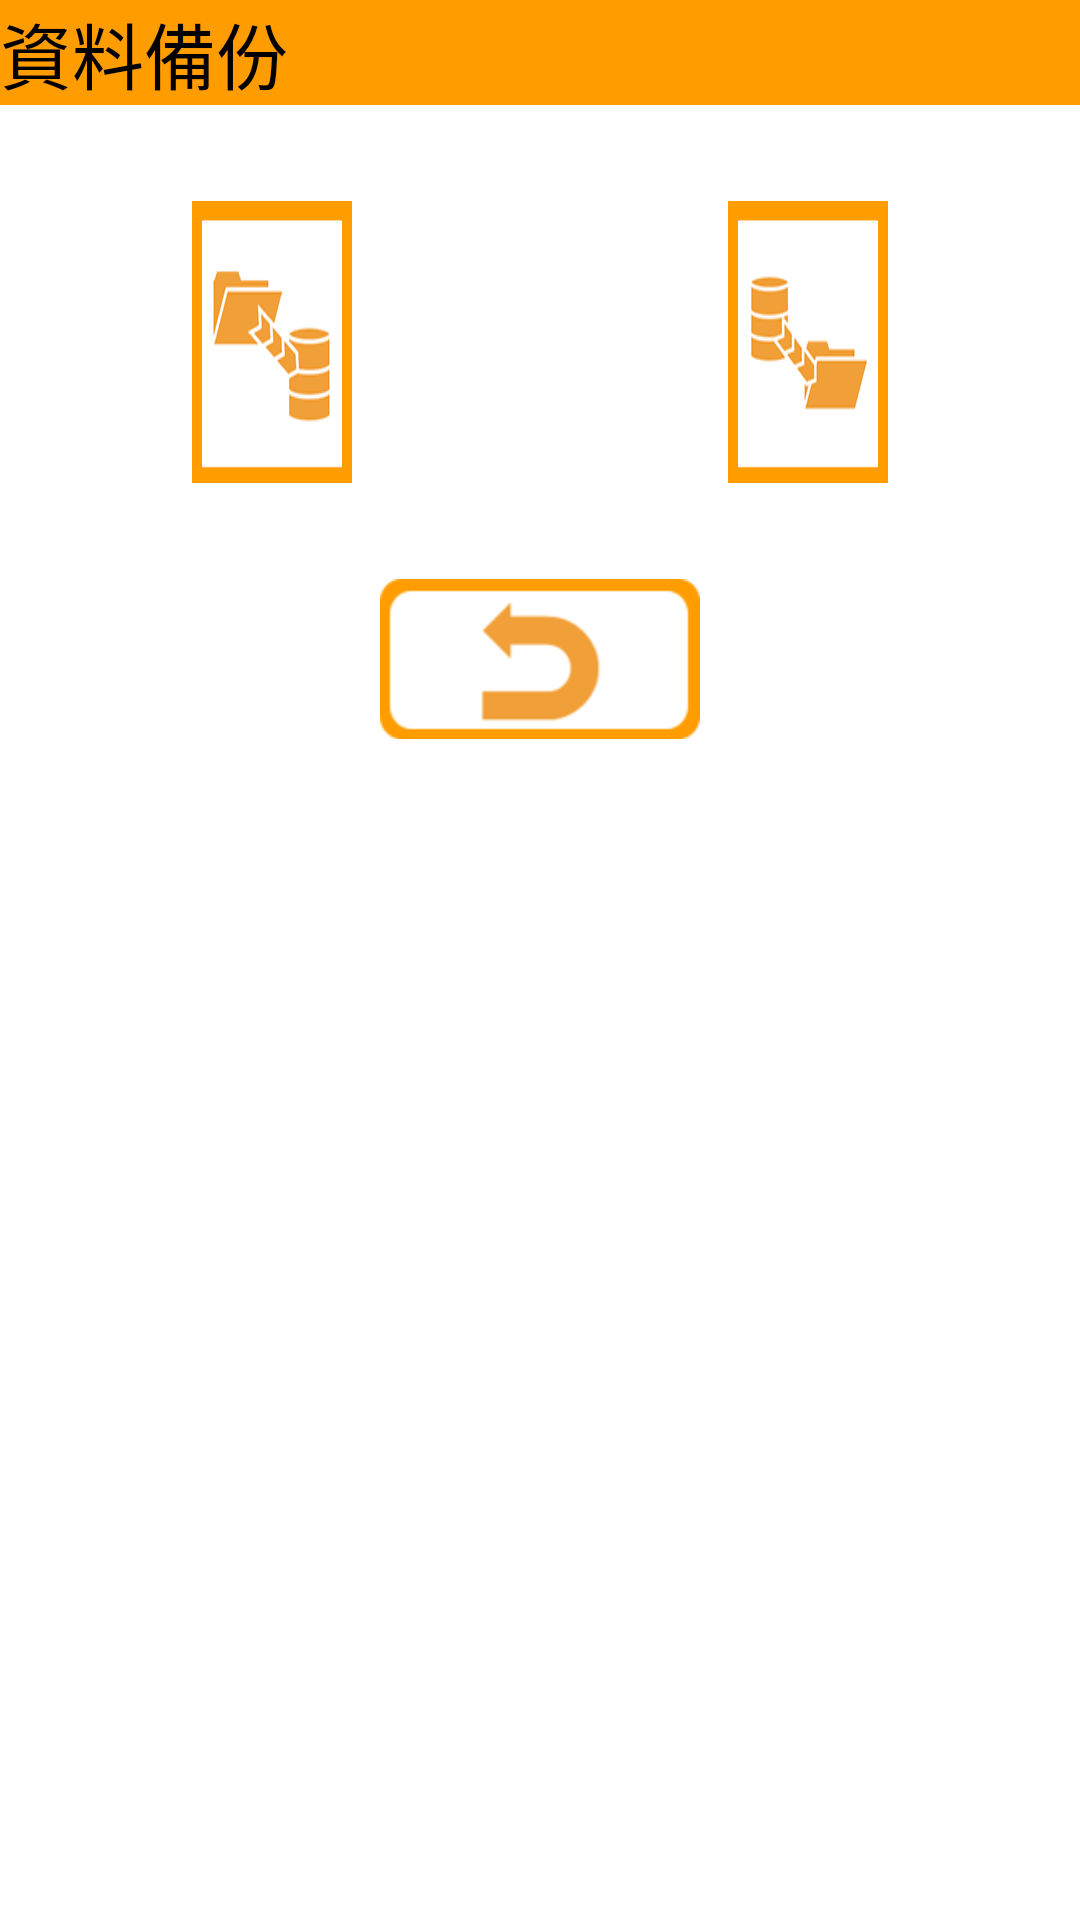

Icons on this 1080*1920 Android screen, each with its box as (x1, y1, x2, y2):
backup click: (728, 201, 888, 483)
restore click: (192, 201, 352, 483)
return click: (380, 579, 700, 739)
